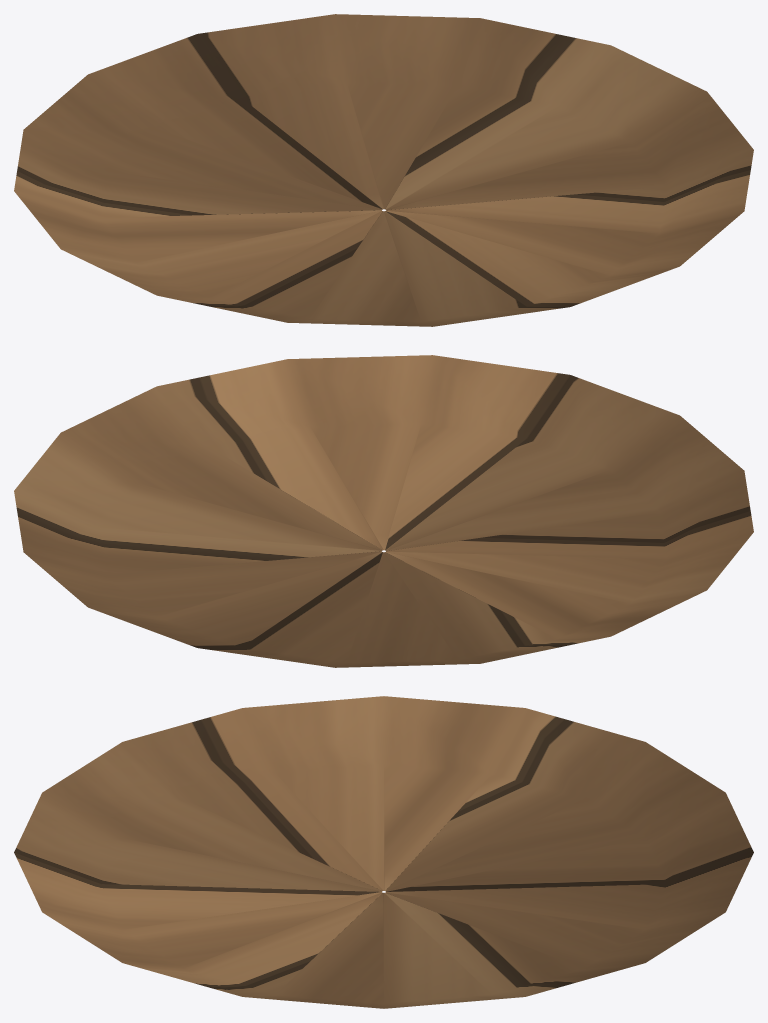
File: Table_Plate.gltf
The picture shows the model from 3 angles, top to bottom: view 1: azimuth 30°, elevation 25°; view 2: azimuth 150°, elevation 25°; view 3: azimuth 270°, elevation 25°; orthographic projection.
Parts seen in each view (by area): view 1: Table_Plate; view 2: Table_Plate; view 3: Table_Plate.
Boxes of the visible parts, <box> form: Table_Plate: <box>14,14,753,326</box>; Table_Plate: <box>14,355,753,667</box>; Table_Plate: <box>14,696,753,1008</box>.
Bounding box in the file's own units: 0.34 × 0.02 × 0.34.
Materials: 1 (1 with a texture image).
